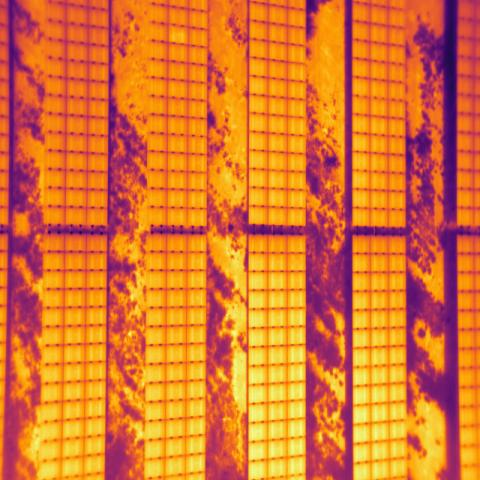fault: (168, 24, 188, 44)
